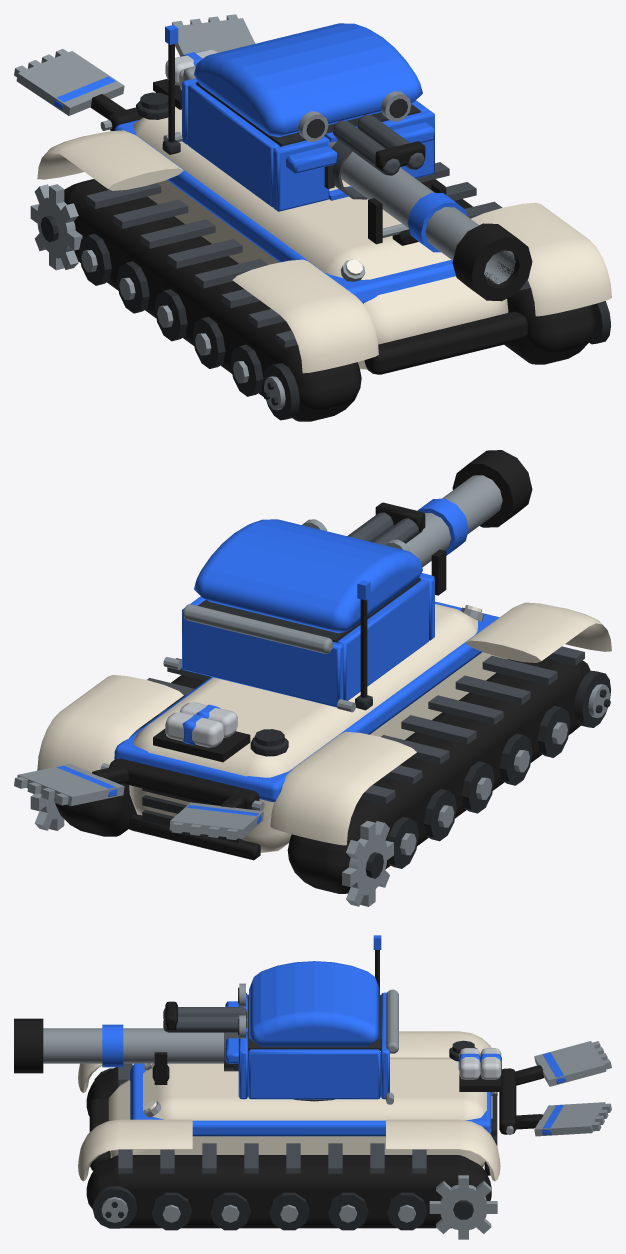
File: artillery.glb
3 renders of one model, top to bottom at view 1: azimuth 30°, elevation 25°; view 2: azimuth 150°, elevation 25°; view 3: azimuth 270°, elevation 25°, orthographic. The views are drawn at different scales.
Visible parts, largest first — view 1: hull__M_CreamPlastic, cradle_head__M_Team, gear__M_Licorice, tread_r__M_SmokePlastic, hull__M_Licorice, barrel__M_SpringSteel, gear__M_Dark, hull__M_Team, barrel__M_Licorice, spade_r__M_SpringSteel, cradle_head__M_SmokePlastic, sprocket_r__M_SpringSteel (+13 smaller); view 2: hull__M_CreamPlastic, cradle_head__M_Team, gear__M_Licorice, hull__M_Licorice, tread_r__M_SmokePlastic, hull__M_Team, gear__M_Dark, barrel__M_SpringSteel, cradle_head__M_SpringSteel, barrel__M_Licorice, sprocket_r__M_SpringSteel, spade_l__M_SpringSteel (+12 smaller); view 3: hull__M_CreamPlastic, cradle_head__M_Team, gear__M_Licorice, barrel__M_SpringSteel, gear__M_Dark, hull__M_Team, tread_l__M_SmokePlastic, hull__M_Licorice, sprocket_l__M_SpringSteel, spade_r__M_SpringSteel, cradle_head__M_SmokePlastic, spade_l__M_SpringSteel (+9 smaller).
Boxes of the visible parts, box(x1,y1,x2,y2) form: hull__M_CreamPlastic: box(37, 106, 611, 373); cradle_head__M_Team: box(182, 23, 434, 211); gear__M_Licorice: box(64, 179, 595, 421); tread_r__M_SmokePlastic: box(86, 183, 297, 347); hull__M_Licorice: box(108, 79, 527, 374); barrel__M_SpringSteel: box(329, 141, 515, 284); gear__M_Dark: box(79, 233, 263, 396); hull__M_Team: box(114, 52, 455, 303); barrel__M_Licorice: box(452, 223, 532, 301); spade_r__M_SpringSteel: box(14, 49, 124, 115); cradle_head__M_SmokePlastic: box(331, 114, 424, 199); sprocket_r__M_SpringSteel: box(30, 184, 82, 270); hull__M_CreamPlastic: box(37, 602, 611, 852); cradle_head__M_Team: box(182, 519, 434, 707); gear__M_Licorice: box(54, 658, 590, 893); hull__M_Licorice: box(109, 549, 512, 860); tread_r__M_SmokePlastic: box(360, 646, 584, 803); hull__M_Team: box(114, 601, 499, 802); gear__M_Dark: box(387, 705, 570, 868); barrel__M_SpringSteel: box(406, 475, 502, 567); cradle_head__M_SpringSteel: box(183, 519, 410, 653); barrel__M_Licorice: box(452, 450, 532, 527); sprocket_r__M_SpringSteel: box(342, 820, 393, 906); spade_l__M_SpringSteel: box(14, 764, 124, 805); hull__M_CreamPlastic: box(78, 1031, 500, 1181); cradle_head__M_Team: box(225, 961, 389, 1099); gear__M_Licorice: box(86, 1067, 491, 1228); barrel__M_SpringSteel: box(43, 1028, 248, 1063); gear__M_Dark: box(151, 1192, 426, 1230); hull__M_Team: box(130, 1053, 501, 1136); tread_l__M_SmokePlastic: box(118, 1143, 426, 1173); hull__M_Licorice: box(89, 1052, 516, 1175); sprocket_l__M_SpringSteel: box(429, 1175, 497, 1239); spade_r__M_SpringSteel: box(534, 1041, 611, 1086); cradle_head__M_SmokePlastic: box(163, 1007, 247, 1071); spade_l__M_SpringSteel: box(534, 1102, 611, 1136).
Bounding box in the file's own units: 0.716 × 0.5408 × 1.42.
